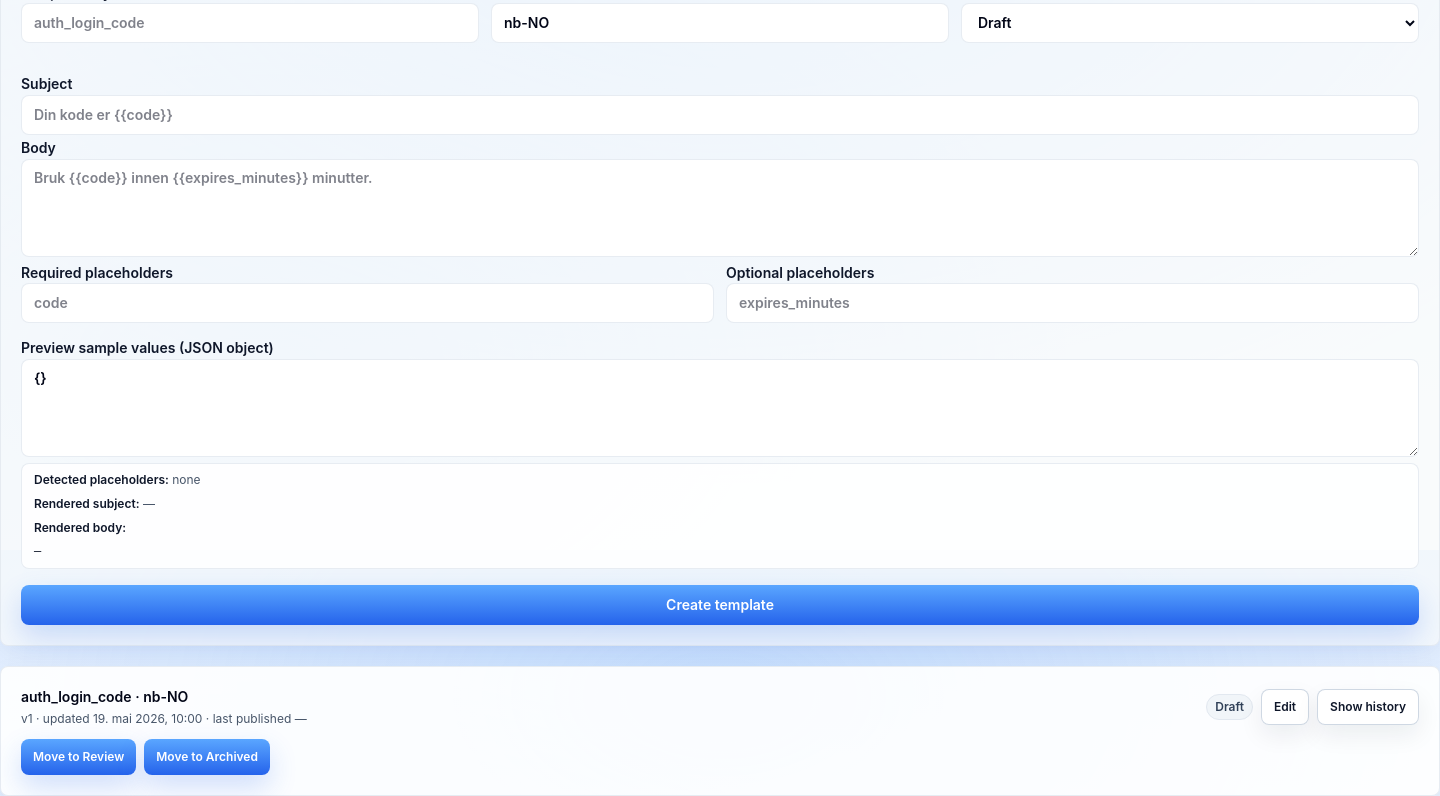
Test: AdminEmailTemplatesManager state rendering › announces unchanged inline action feedback politely
The width and height of the screenshot is (1440, 796).
(page scrolled)
Expected: the text "auth_login_code · nb-NO" is shown, [21,688,188,704]
Click the button "Edit".
click(1285, 706)  # box [1261,688,1309,724]
(page scrolled)
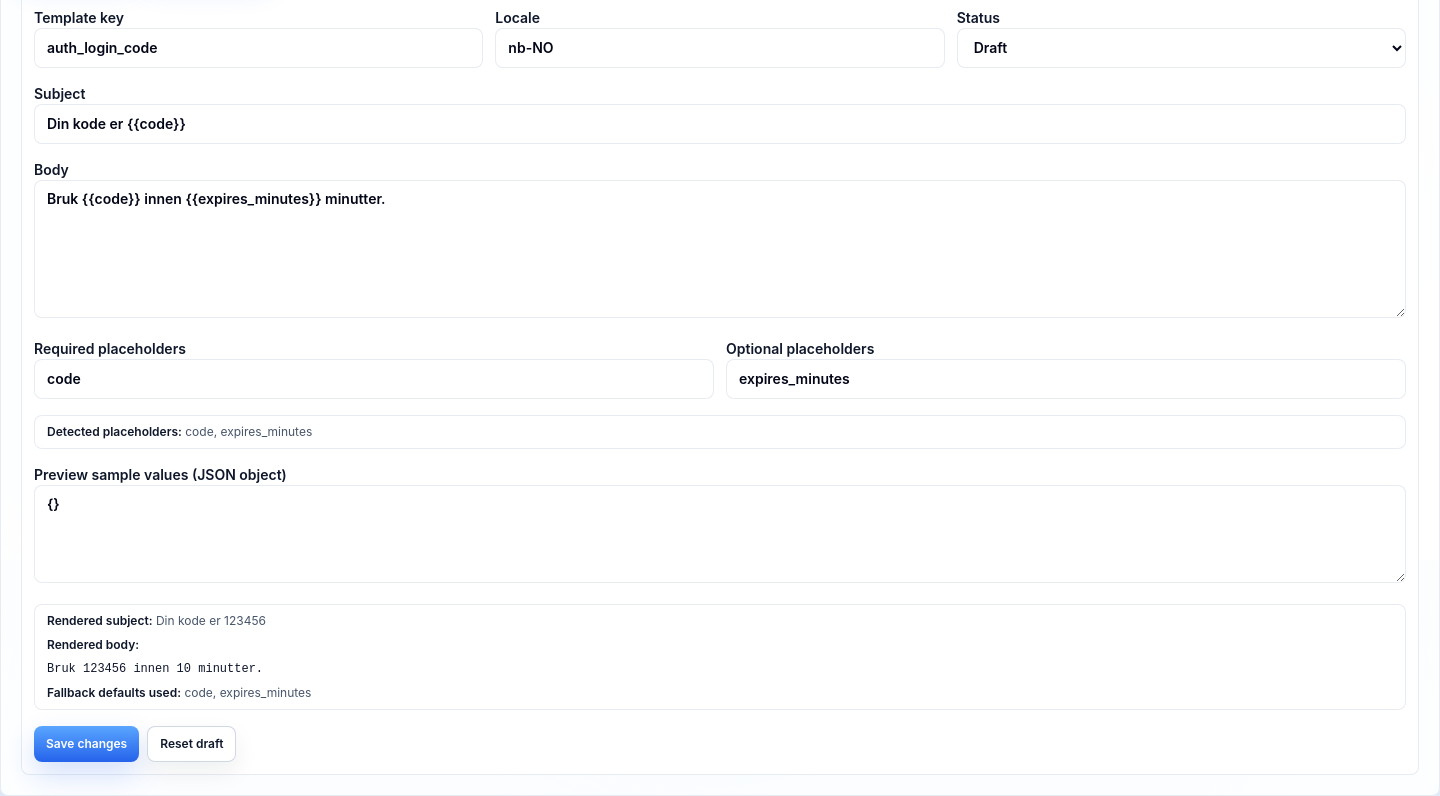
Click the button "Save changes".
click(87, 744)  # box [34,726,139,762]
(page scrolled)
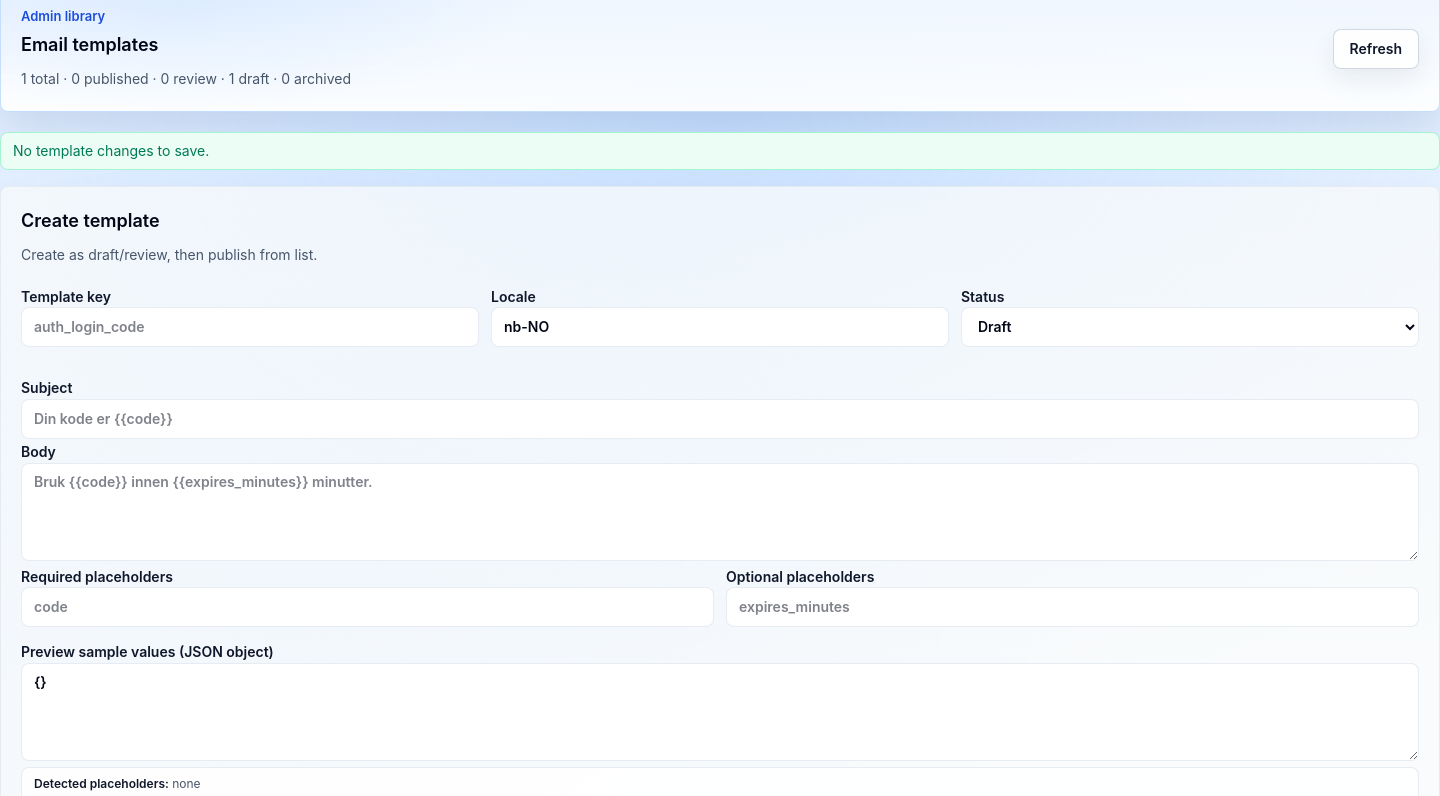
Expected: the message reads "No template changes to save.", [13,142,209,158]
